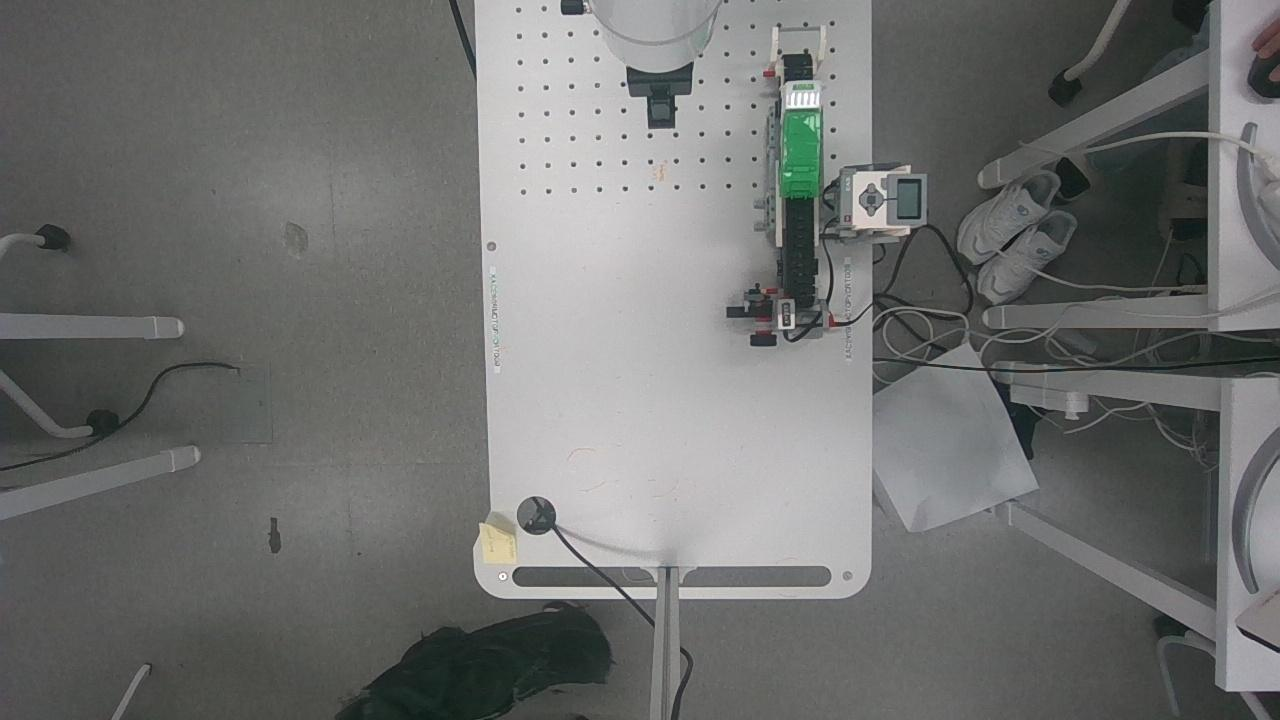truck: (770, 79, 832, 204)
